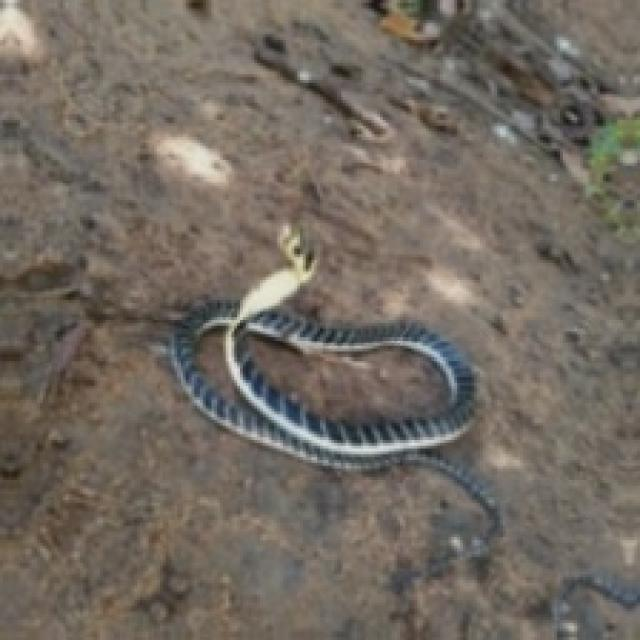king cobra: (169, 226, 497, 557)
